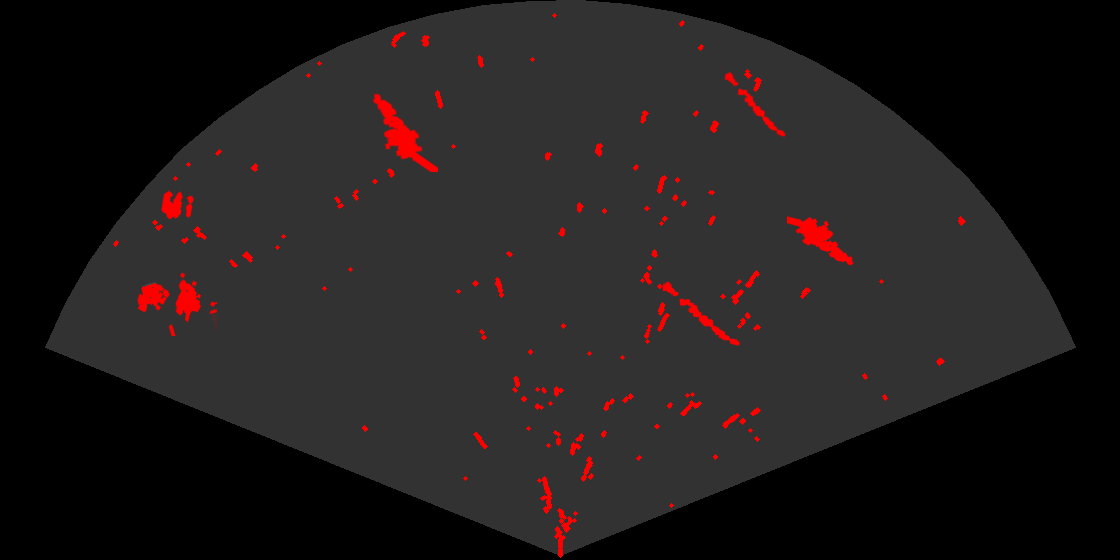ball: (160, 189, 195, 221)
cage: (136, 271, 217, 336)
chain: (661, 280, 741, 347), (718, 66, 787, 138)
frogman: (371, 92, 438, 172), (787, 215, 855, 267)
